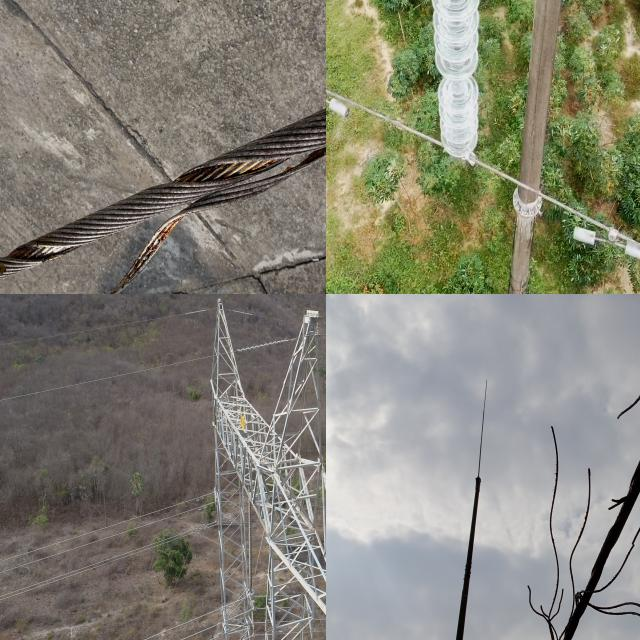杆塔: (204, 294, 326, 640)
正常电缆: (326, 77, 640, 261)
正常绝缘子: (433, 0, 494, 163), (245, 479, 255, 598)
电缆破损: (520, 309, 640, 640), (106, 0, 326, 113)
绝缘子破损: (442, 80, 472, 88)
